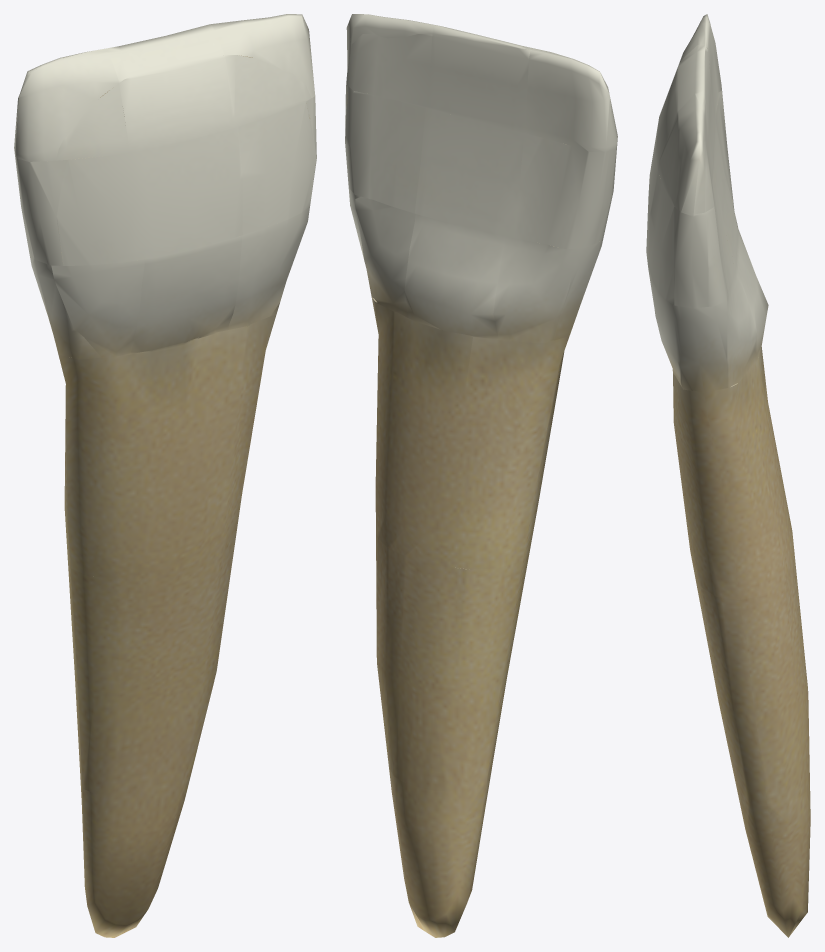
Rendered from Right_Lower_Central_Incisor.glb.
3 views of the same model, side by side, from view 1: azimuth 30°, elevation 25°; view 2: azimuth 150°, elevation 25°; view 3: azimuth 270°, elevation 25° (orthographic). The views are drawn at different scales.
Visible parts, largest first — view 1: Human_Teeth_Lower_Central_Incisor; view 2: Human_Teeth_Lower_Central_Incisor; view 3: Human_Teeth_Lower_Central_Incisor.
Part boxes in pixels (box(x1,y1,x2,y2)): Human_Teeth_Lower_Central_Incisor: box(14, 14, 316, 937); Human_Teeth_Lower_Central_Incisor: box(345, 14, 617, 937); Human_Teeth_Lower_Central_Incisor: box(646, 14, 810, 937).
Bounding box in the file's own units: 1.08 × 3.28 × 0.5636.
Materials: 30 (30 with a texture image).
